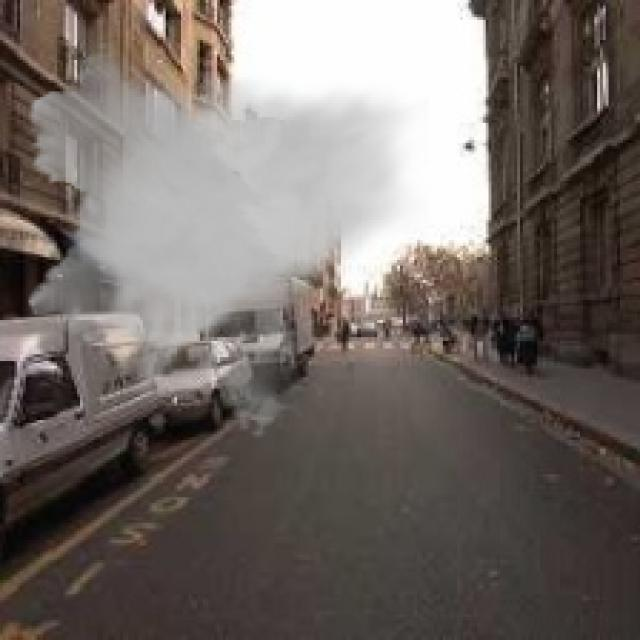Smoke: (17, 40, 429, 440)
